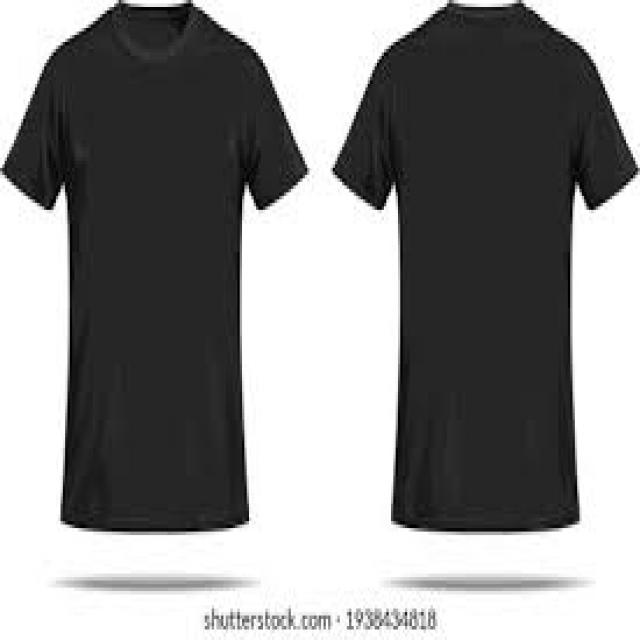Shirt: (347, 0, 625, 577), (6, 4, 286, 550)
